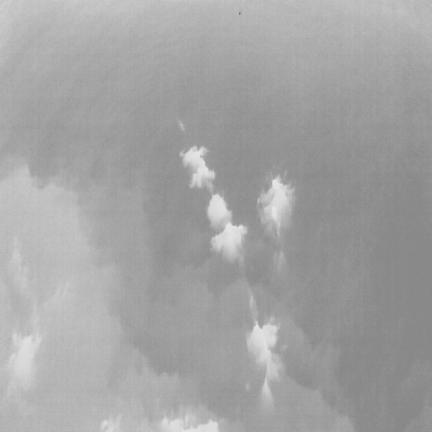flukeprints: (246, 321, 281, 403), (259, 176, 294, 240), (180, 146, 215, 192), (211, 223, 247, 262), (207, 194, 232, 230)
